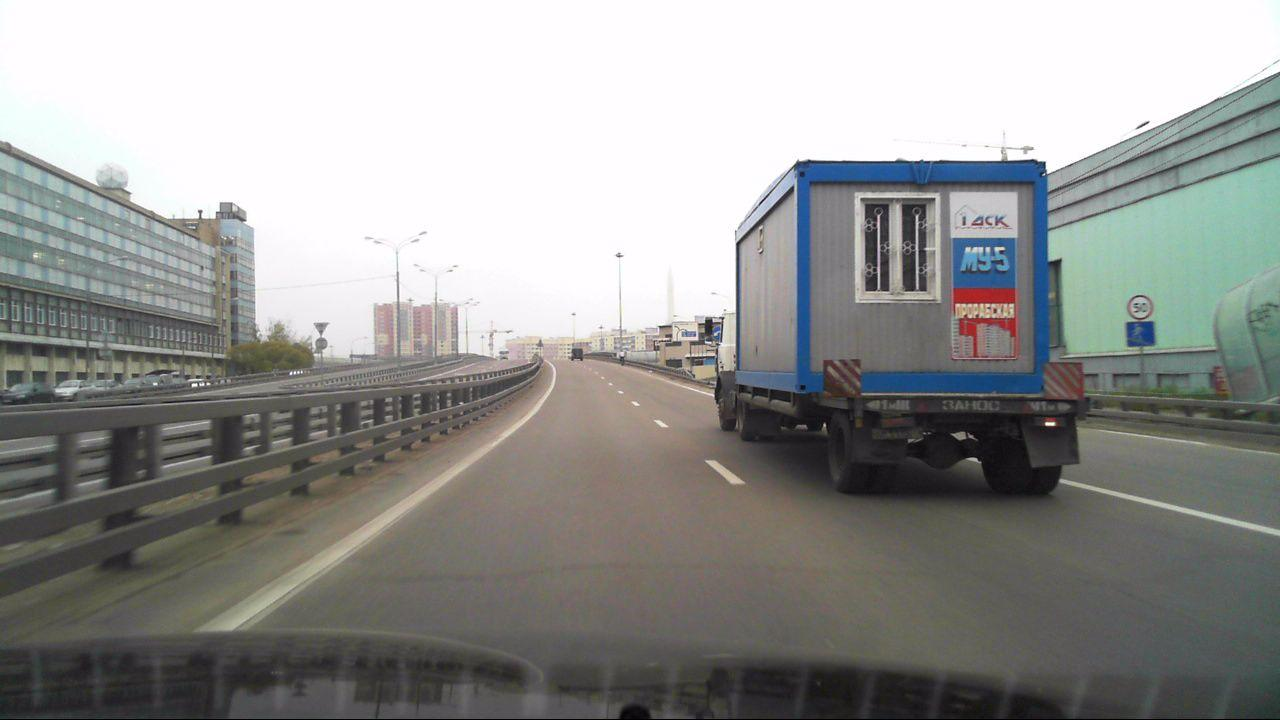3_24: (1125, 294, 1154, 321)
4_2_3: (713, 325, 723, 340)
6_7: (1126, 321, 1154, 348)
6_9_1: (672, 322, 700, 342)
